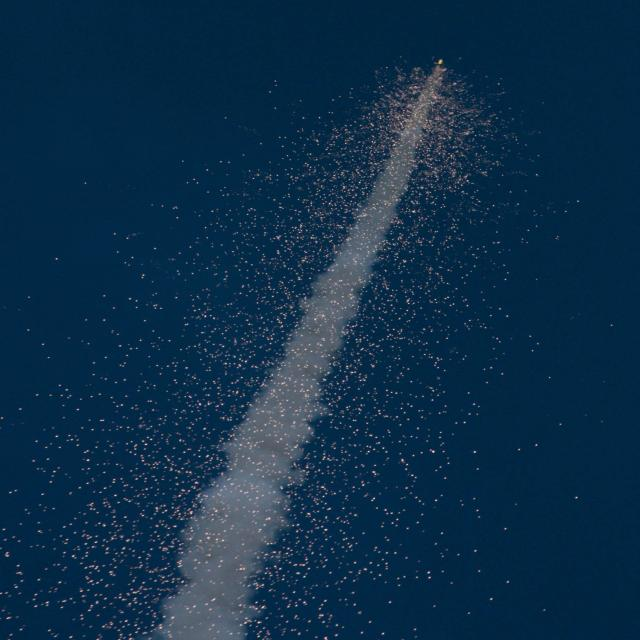Rocket: (434, 58, 444, 65)
